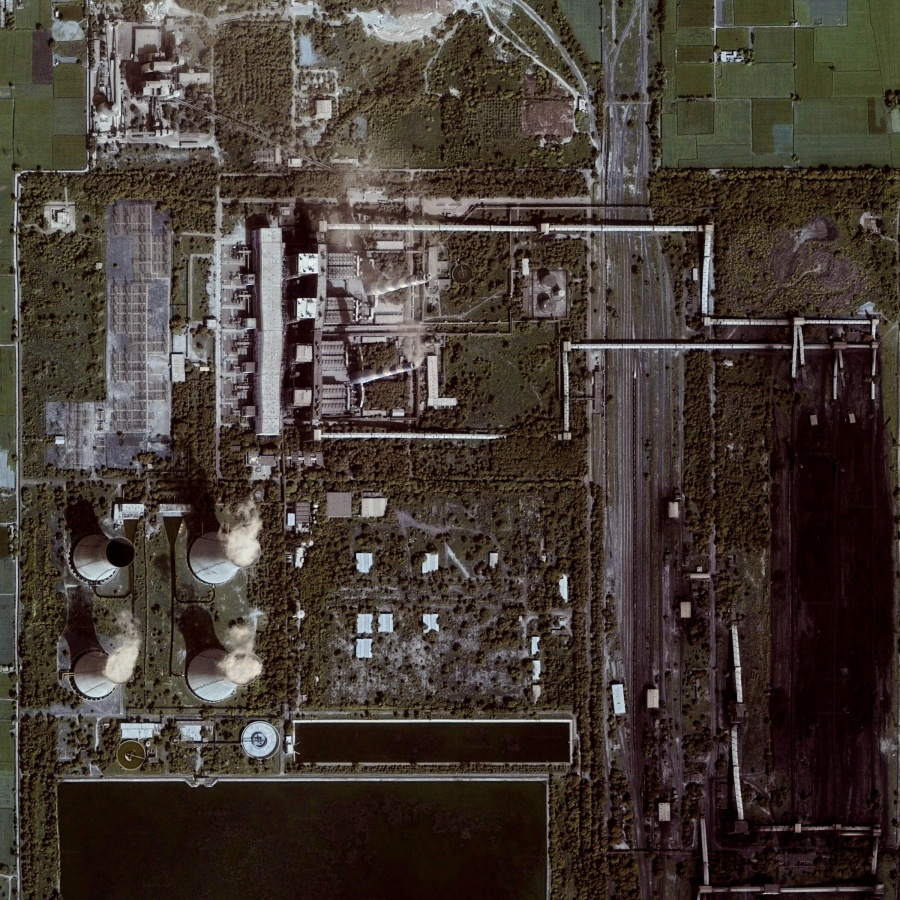PowerPlant: (40, 202, 607, 718)
